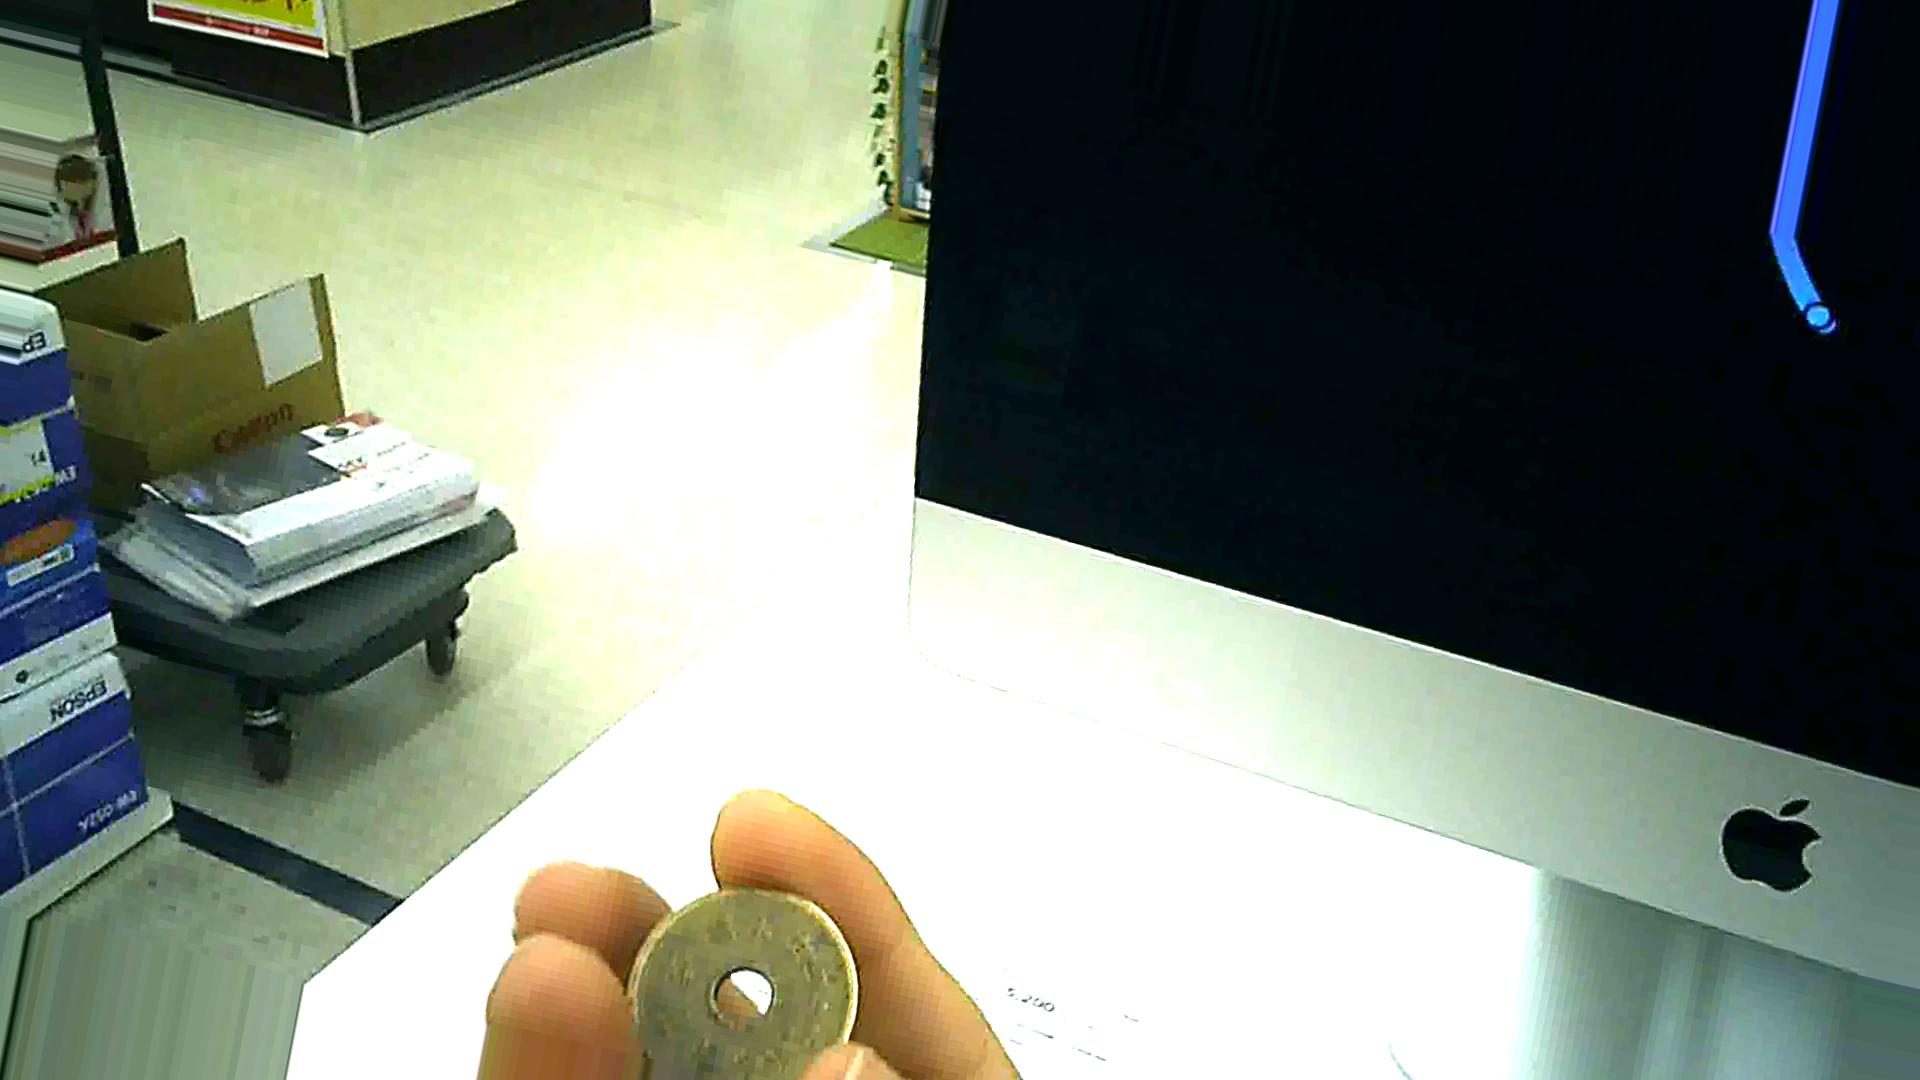5 Yen: (624, 894, 856, 1077)
